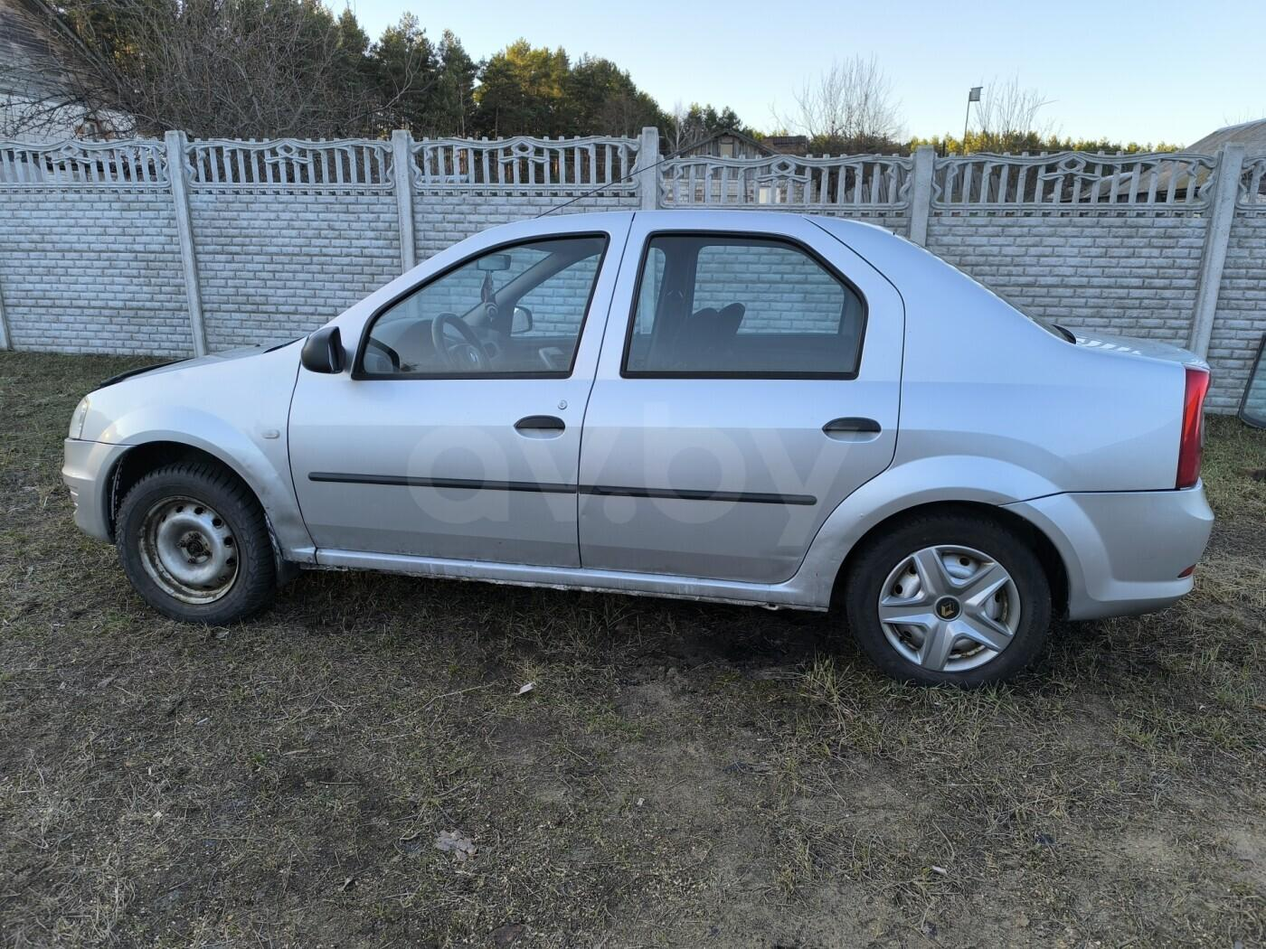Logan_2008-2015: (63, 207, 1217, 688)
